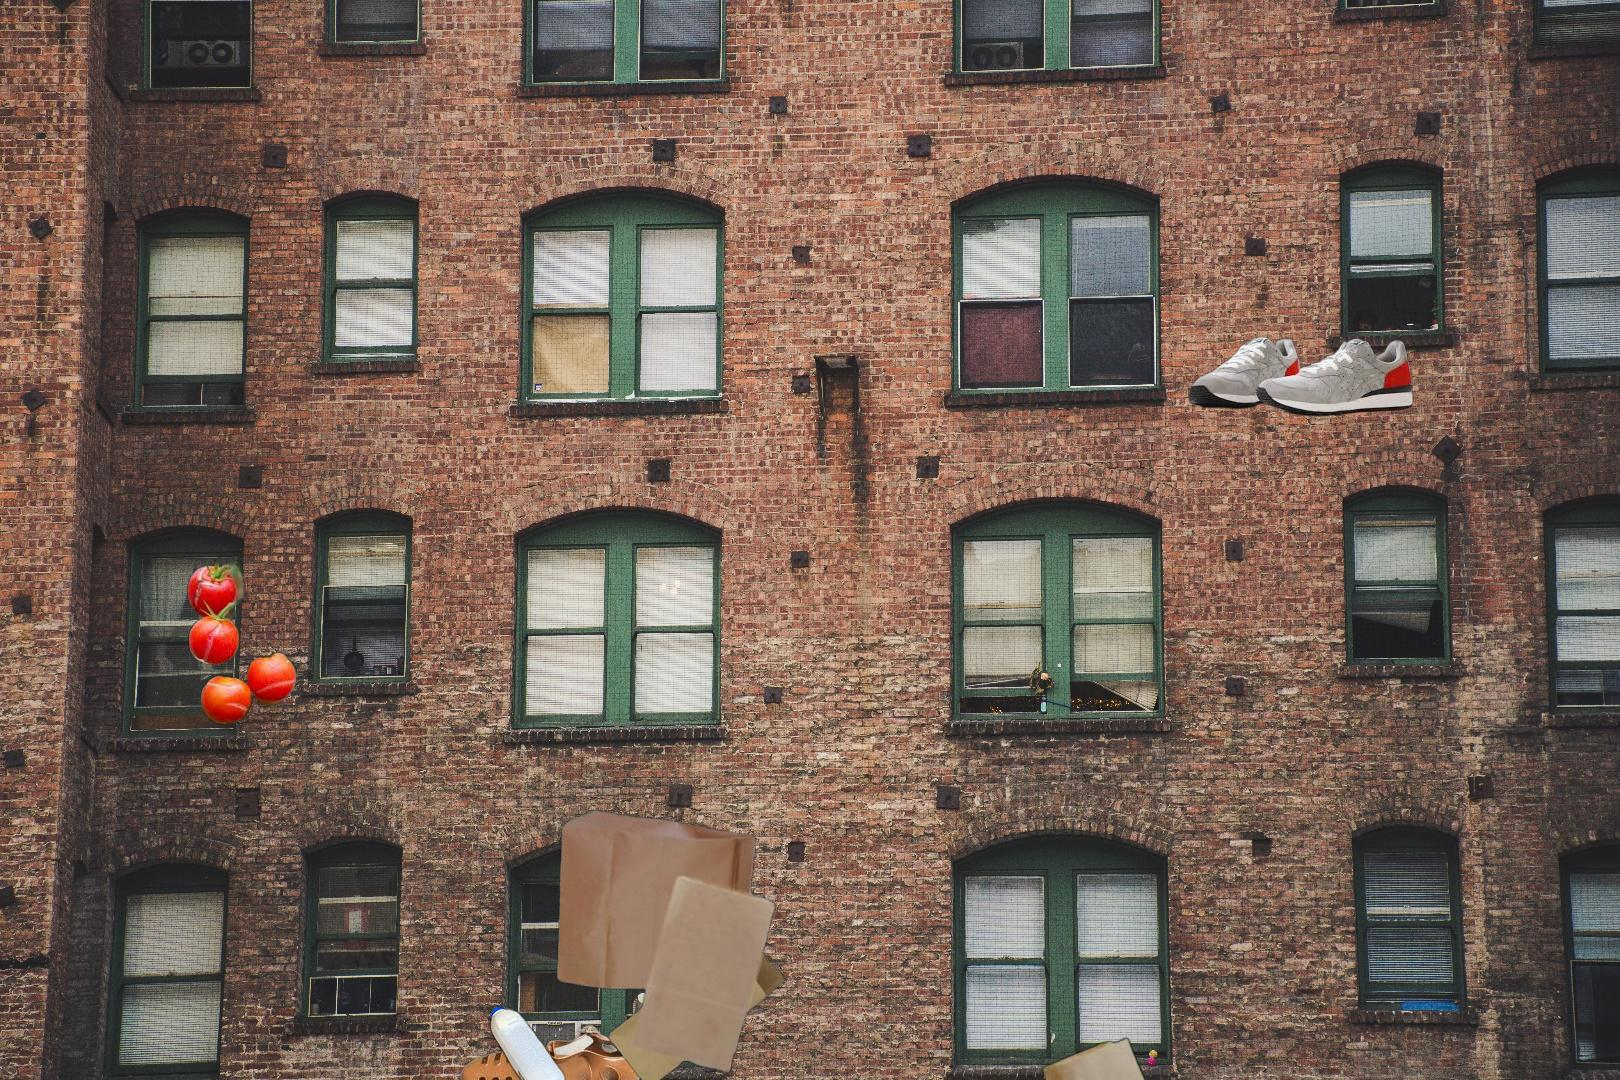biological: (184, 548, 299, 727)
paper-bag: (553, 808, 788, 1080), (900, 1035, 1185, 1080)
plastic-bottles: (479, 1000, 570, 1080)
shoes: (1186, 334, 1416, 419), (444, 1021, 677, 1080)
